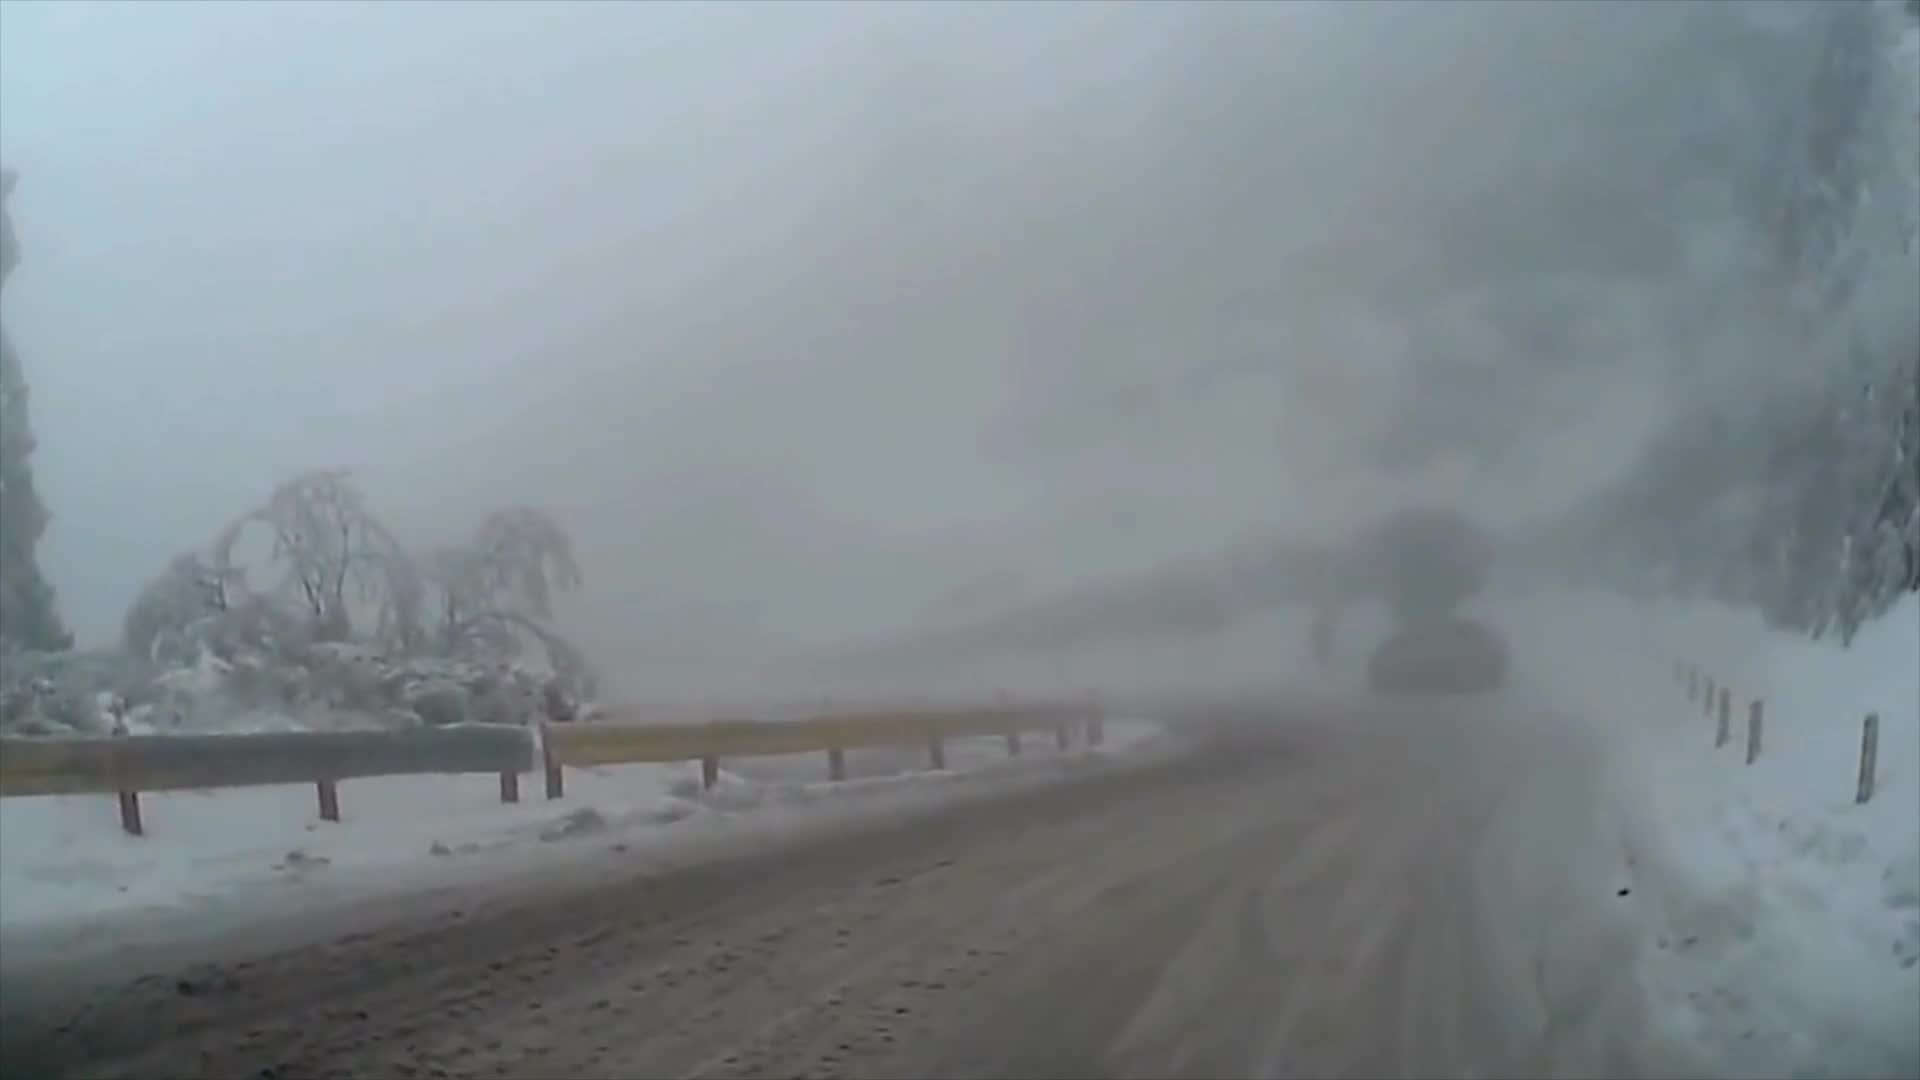vehicle: (1369, 622, 1511, 699)
